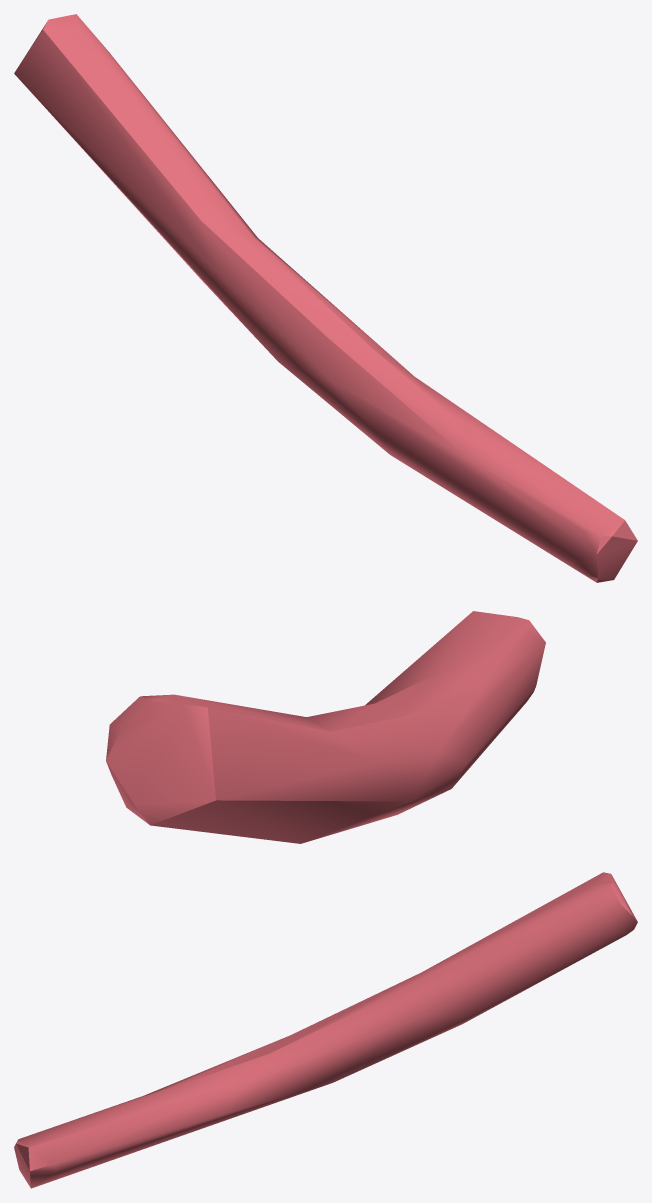
The model's file is fma68193_fj6056.glb.
3 renders of one model, top to bottom at view 1: azimuth 30°, elevation 25°; view 2: azimuth 150°, elevation 25°; view 3: azimuth 270°, elevation 25°, orthographic. The views are drawn at different scales.
Visible parts, largest first — view 1: FMA68193_FJ6056; view 2: FMA68193_FJ6056; view 3: FMA68193_FJ6056.
Part boxes in pixels (x1,y1,x2,y2): FMA68193_FJ6056: (14,14,637,582); FMA68193_FJ6056: (106,611,545,843); FMA68193_FJ6056: (14,872,637,1188).
Size of the model in its own units: 0.00785 by 0.0104 by 0.0238.
